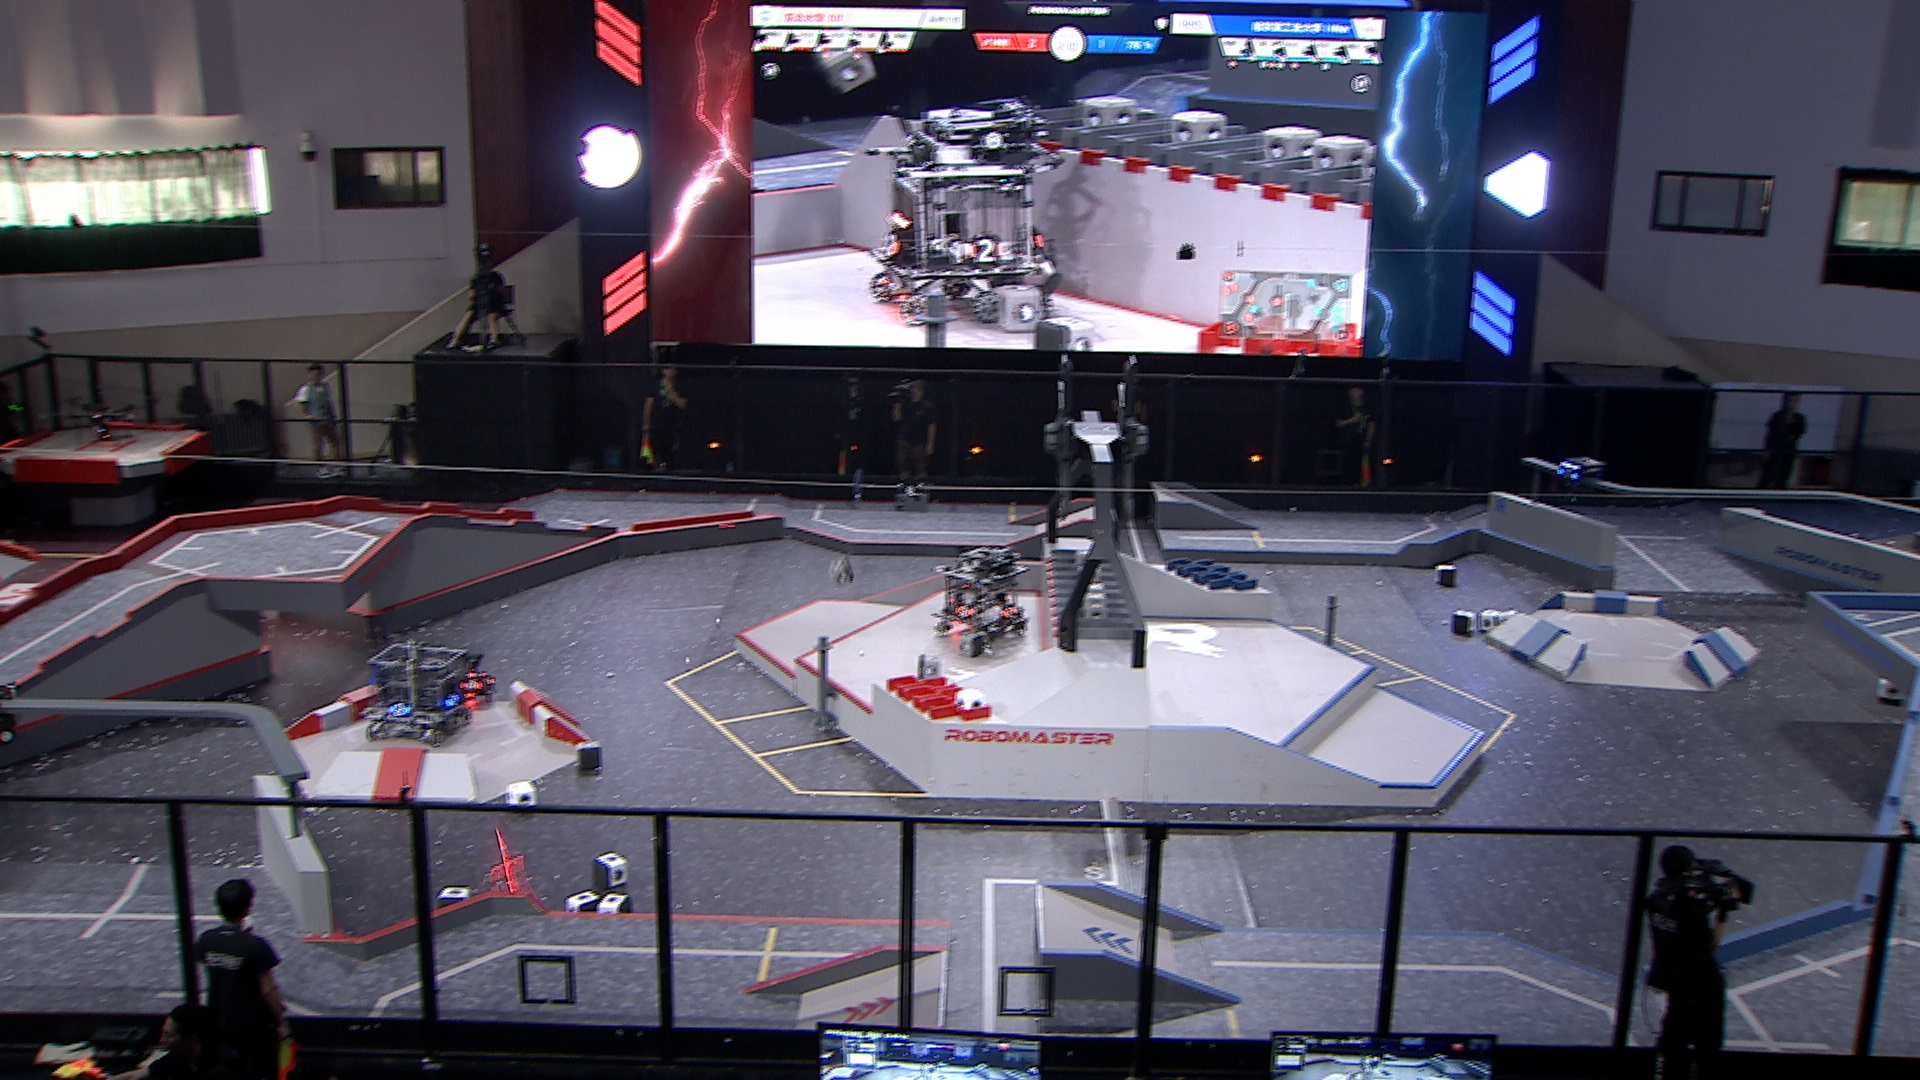armor: (385, 702, 414, 717), (951, 604, 975, 618), (998, 605, 1019, 621), (1556, 467, 1578, 481), (446, 694, 463, 709)
car: (359, 636, 476, 746), (934, 545, 1030, 642), (436, 646, 495, 705)
ignore: (858, 102, 1060, 327)
watcher: (1556, 454, 1604, 493)
